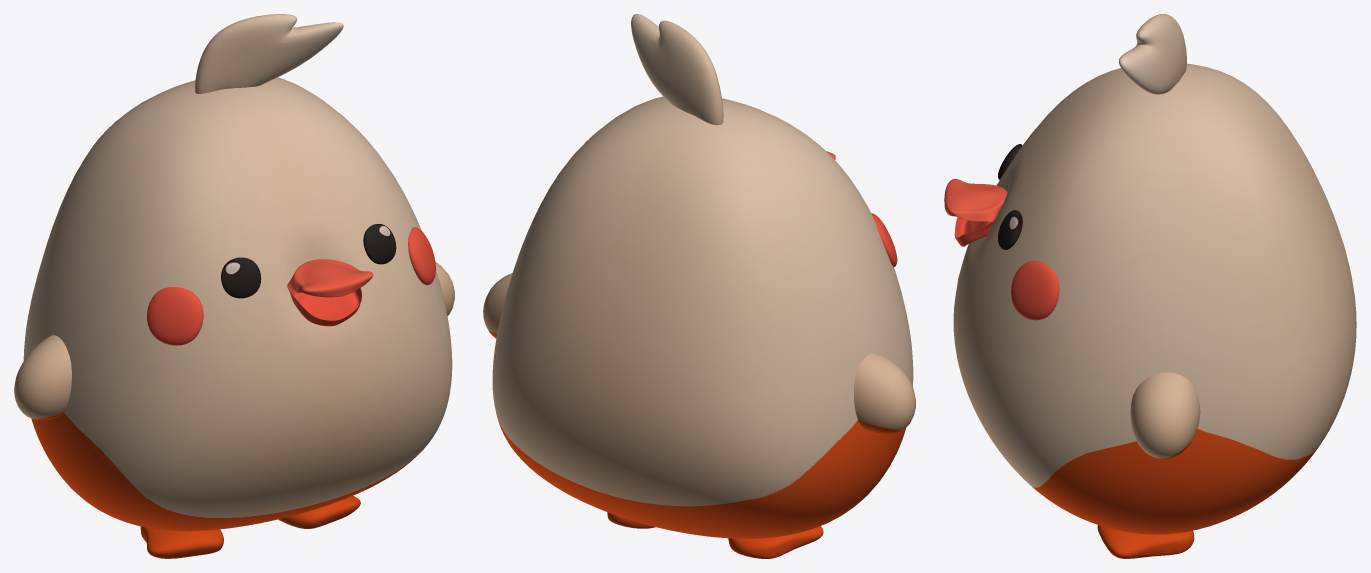
File: 2a_Character.gltf
3 views of the same model, side by side, from view 1: azimuth 30°, elevation 25°; view 2: azimuth 150°, elevation 25°; view 3: azimuth 270°, elevation 25° (orthographic). The views are drawn at different scales.
Parts seen in each view (by area): view 1: Character_2nd; view 2: Character_2nd; view 3: Character_2nd.
Part boxes in pixels (x1=…): Character_2nd: x1=14, y1=14, x2=454, y2=558; Character_2nd: x1=483, y1=14, x2=915, y2=558; Character_2nd: x1=944, y1=14, x2=1356, y2=558.
Size of the model in its own units: 3.55 by 3.95 by 2.91.
Materials: 1 (1 with a texture image).
